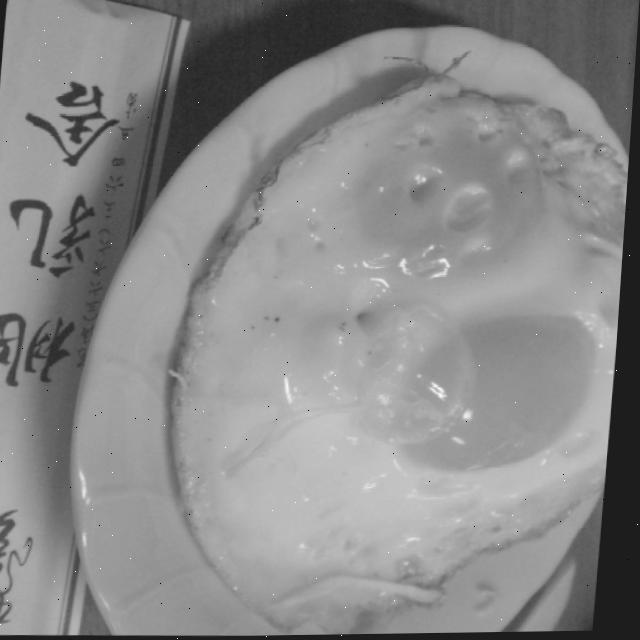鸡蛋料理: (147, 27, 638, 620)
